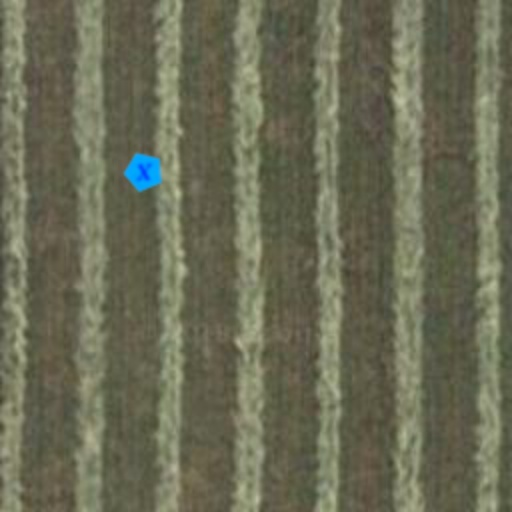pentagon: (120, 148, 168, 196)
